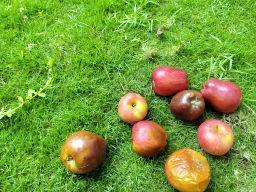apple: (48, 123, 120, 184), (160, 139, 218, 192), (186, 115, 243, 162), (124, 117, 178, 161), (145, 58, 194, 102), (198, 72, 248, 112), (107, 91, 155, 127), (171, 84, 211, 127)
